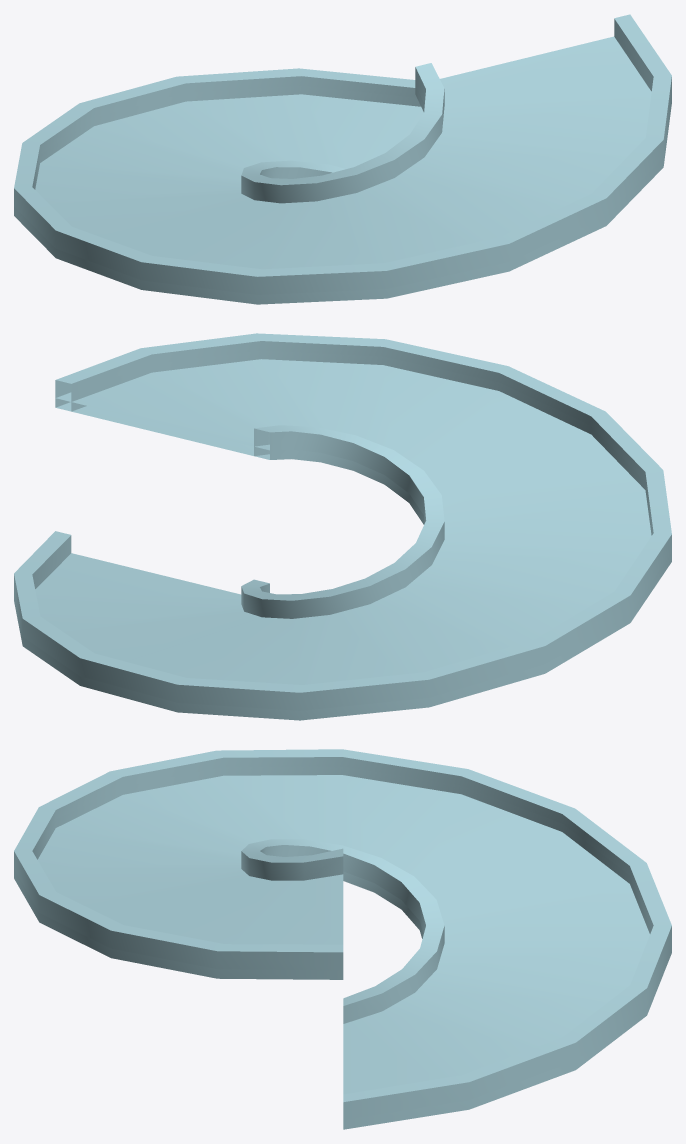
File: espiralEsquerda (1).fbx
3 views of the same model, one above another, from view 1: azimuth 30°, elevation 25°; view 2: azimuth 150°, elevation 25°; view 3: azimuth 270°, elevation 25° (orthographic).
Parts seen in each view (by area): view 1: Pista esquerda; view 2: Pista esquerda; view 3: Pista esquerda.
Part boxes in pixels (x1,y1,x2,y2): Pista esquerda: [14, 14, 671, 304]; Pista esquerda: [14, 333, 671, 720]; Pista esquerda: [14, 749, 671, 1129].
Bounding box in the file's own units: 3175 × 944 × 3175.
